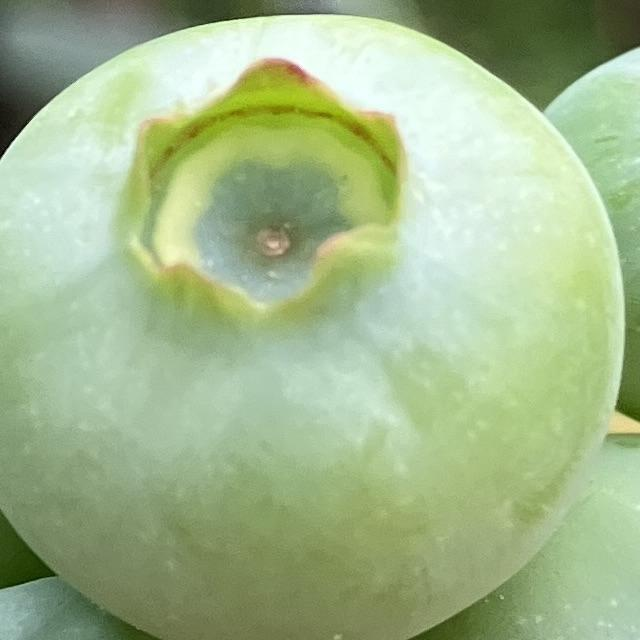Blueberries: (0, 5, 627, 640)
